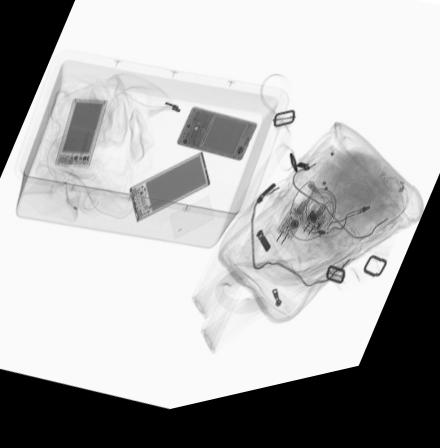Powerbank: (127, 159, 210, 228), (54, 101, 105, 169)
